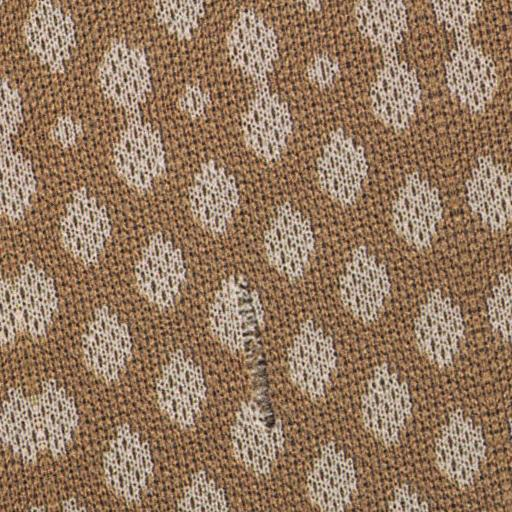slub: (233, 278, 280, 433)
